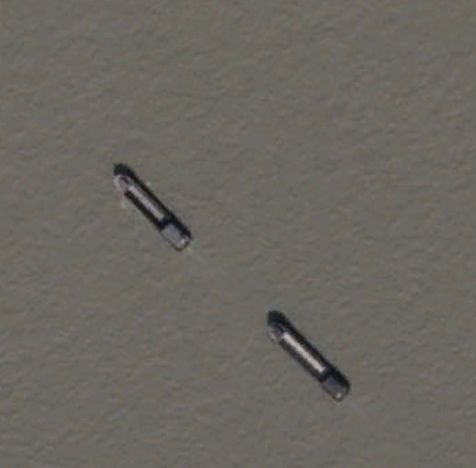boat: (266, 312, 352, 402), (110, 165, 193, 252)
